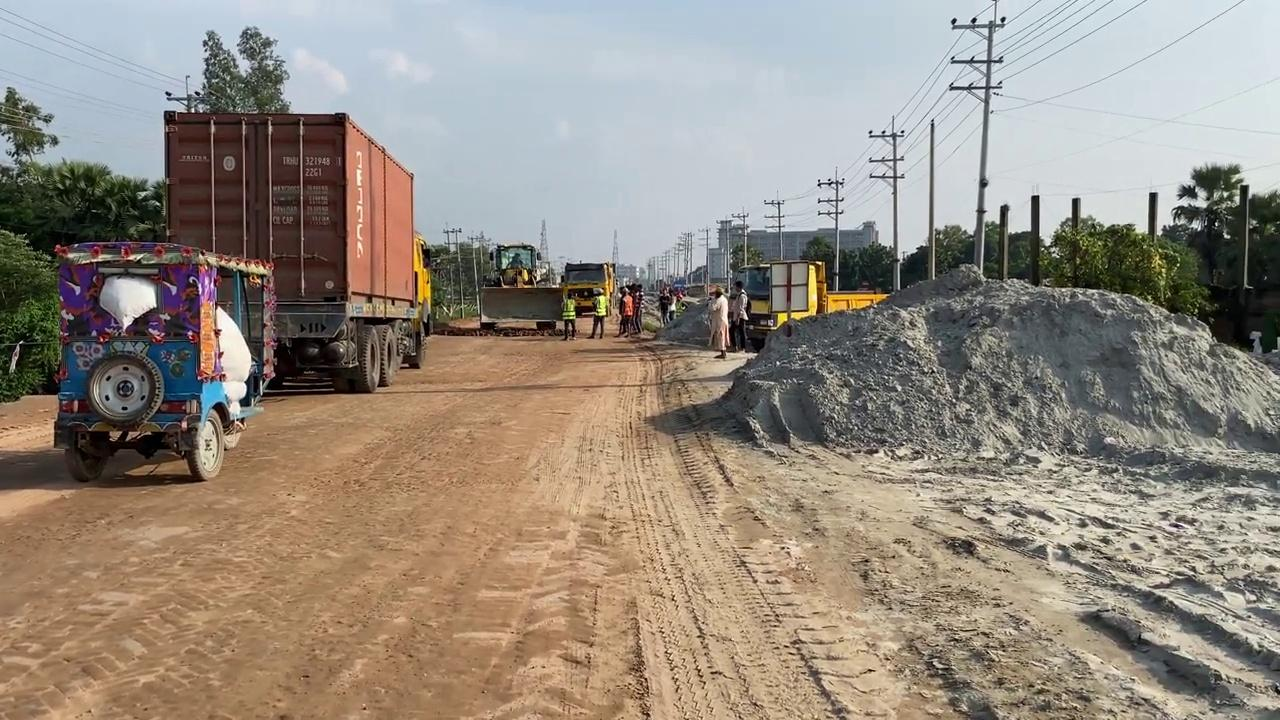Garbage: (714, 256, 1280, 450)
Pole: (948, 2, 1006, 273), (926, 118, 935, 280), (1028, 194, 1040, 285)
Traffic-sign: (196, 24, 291, 113)
Tree: (161, 109, 426, 393), (51, 238, 277, 483), (732, 258, 891, 351), (478, 242, 565, 336), (394, 232, 434, 368), (561, 260, 616, 317), (485, 242, 550, 288)
